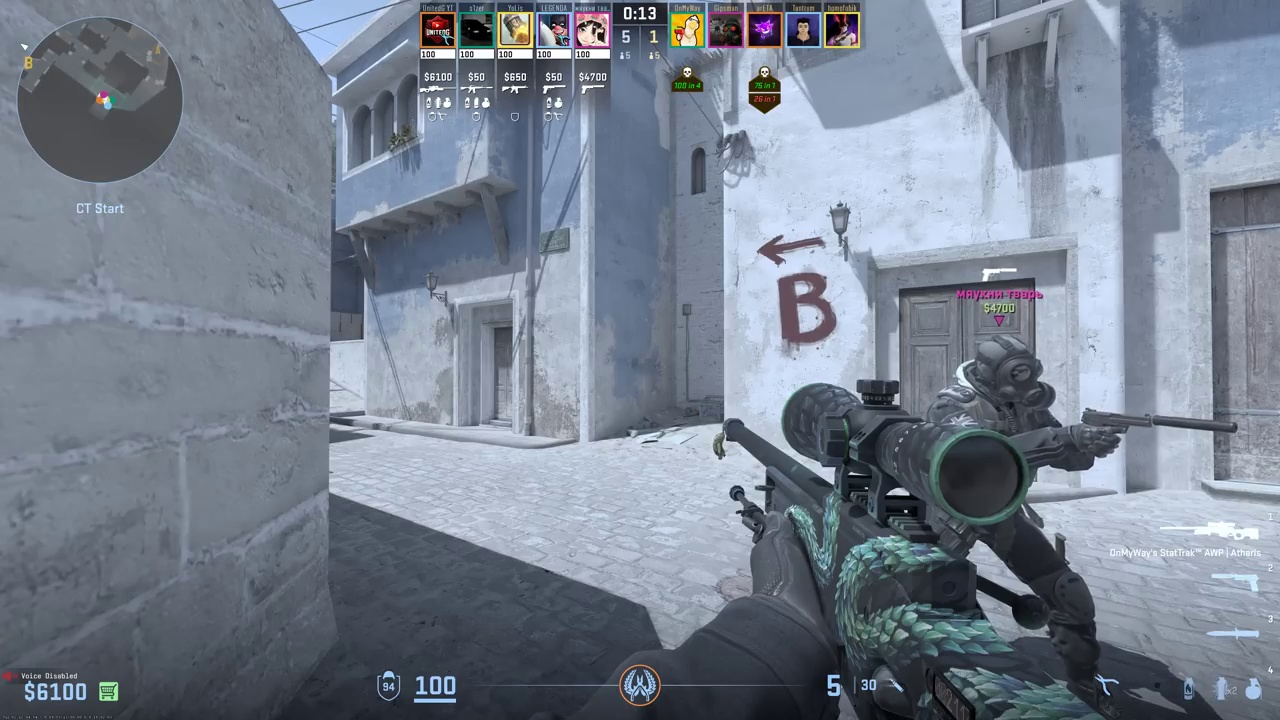CT: (923, 336, 1103, 687)
